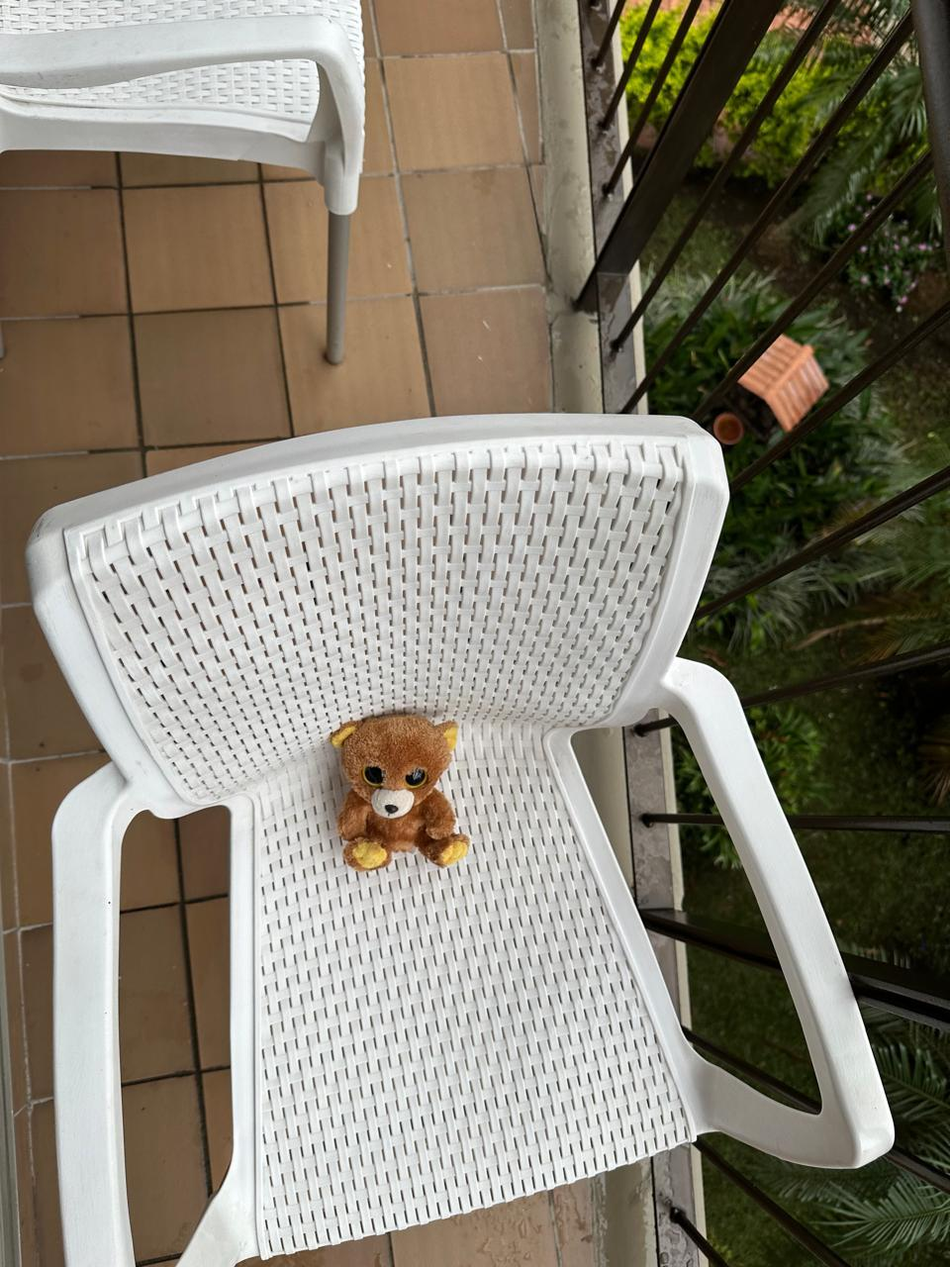peluche_sebastian: (329, 713, 473, 874)
